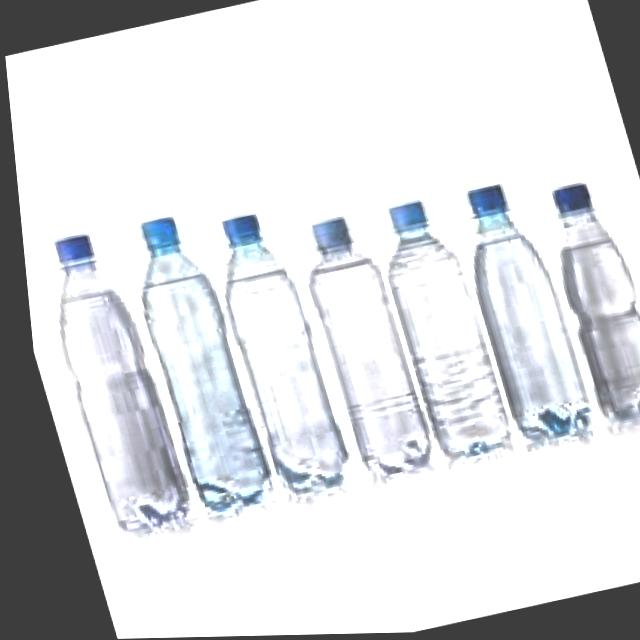Bottles: (103, 196, 280, 541), (17, 218, 193, 545), (429, 158, 607, 475), (350, 171, 517, 482), (195, 199, 357, 518), (273, 190, 439, 500), (519, 158, 640, 445)
